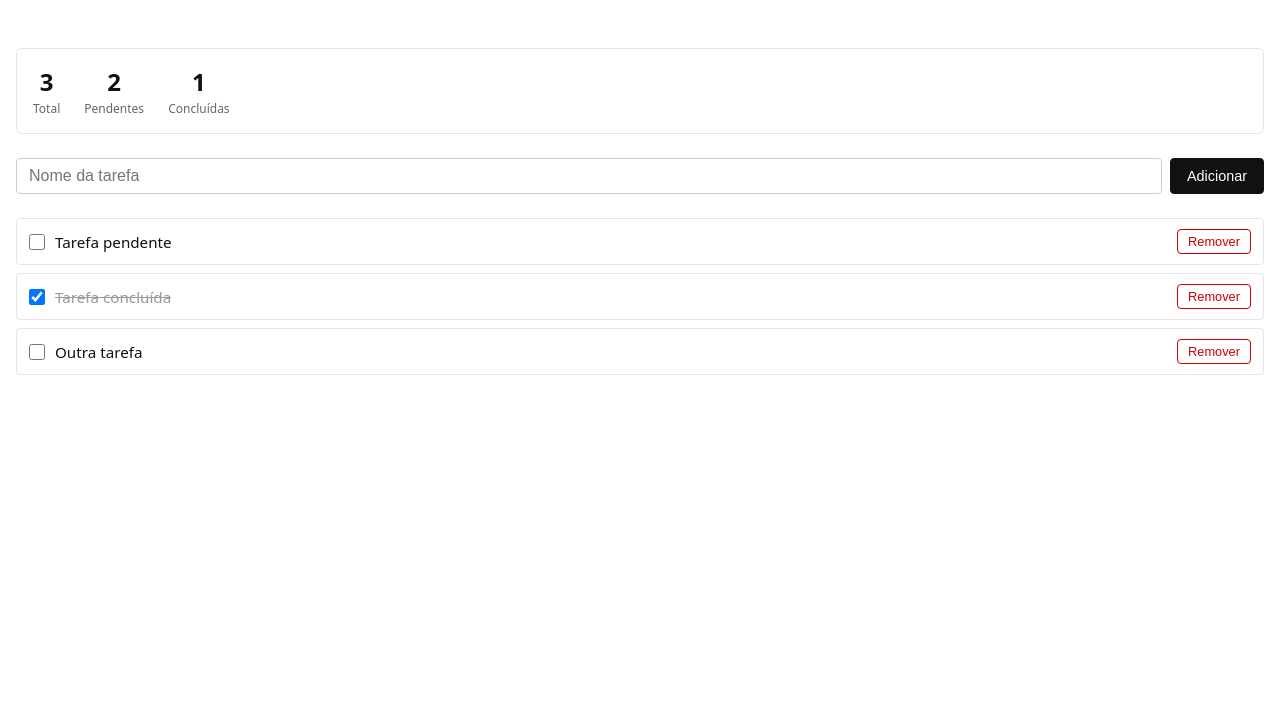
it: ListaTarefas › Remover tarefa — modal › fecha o modal ao clicar em Cancelar
Click the button with aria-label "remover tarefa".
click(1214, 242)  # box x1=1177 y1=229 x2=1251 y2=254
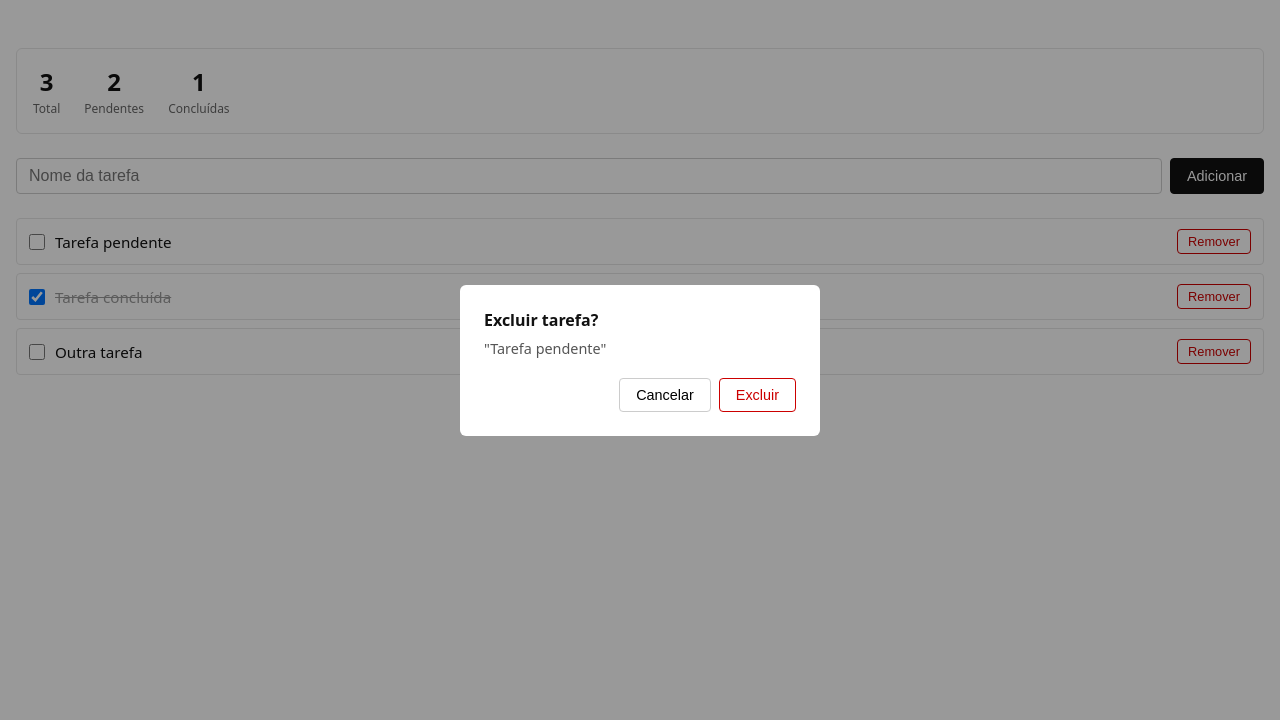
Check: the dialog is shown
Click the button with aria-label "cancelar exclusão".
click(665, 394)  # box x1=619 y1=378 x2=711 y2=412
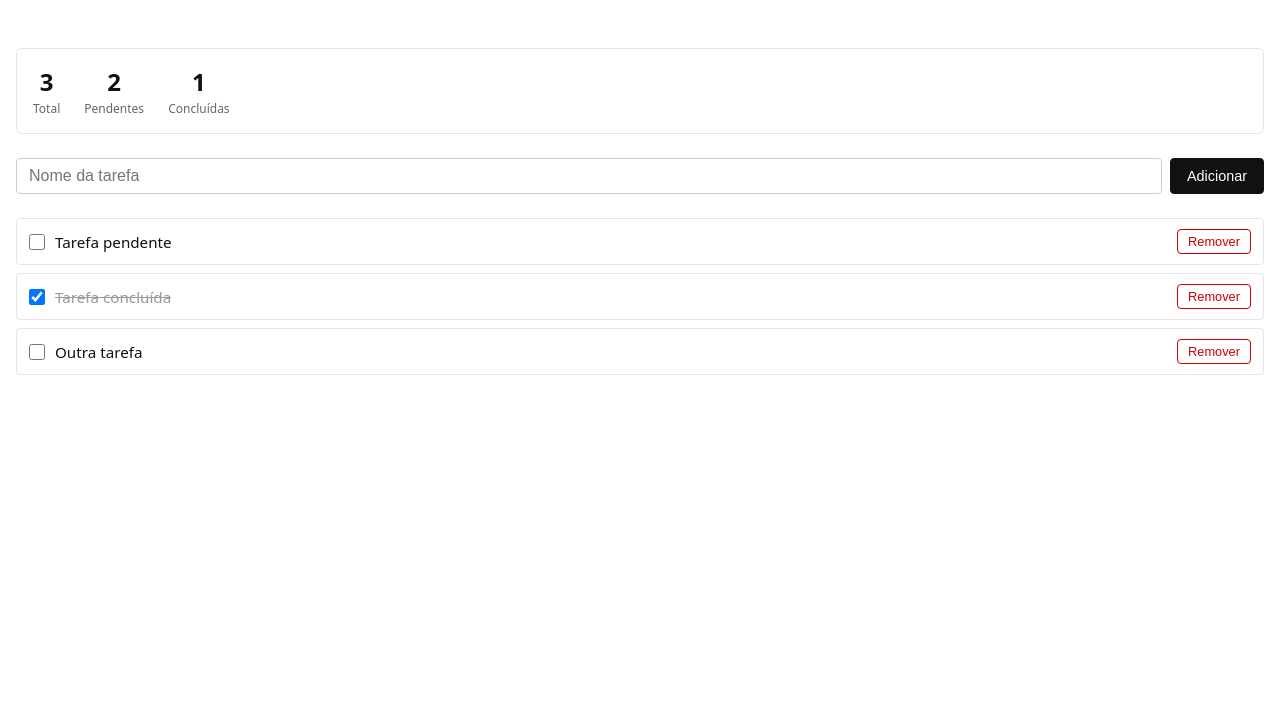
Check: the dialog is gone
